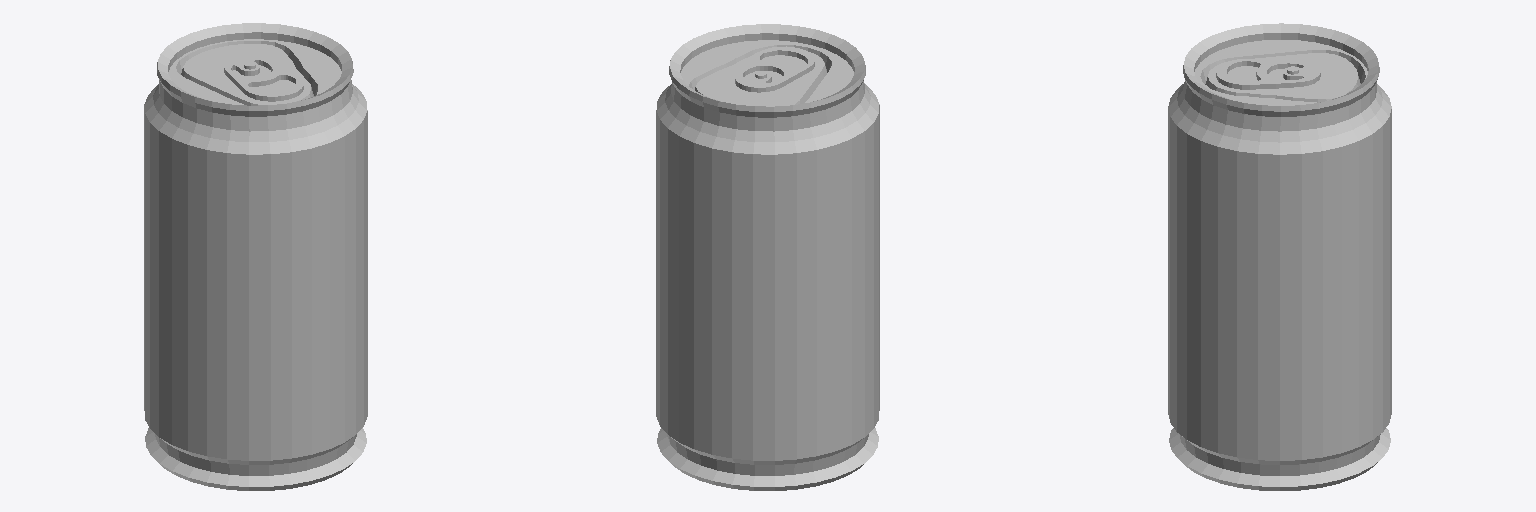
The model's file is can4.obj.
3 renders of one model, left to right at view 1: azimuth 30°, elevation 25°; view 2: azimuth 150°, elevation 25°; view 3: azimuth 270°, elevation 25°, orthographic.
Parts seen in each view (by area): view 1: Cylinder; view 2: Cylinder; view 3: Cylinder.
Part boxes in pixels (x1,y1,x2,y2): Cylinder: (144,23,367,490); Cylinder: (656,24,879,490); Cylinder: (1168,23,1391,490).
Bounding box in the file's own units: 6.78 × 12.8 × 6.78.